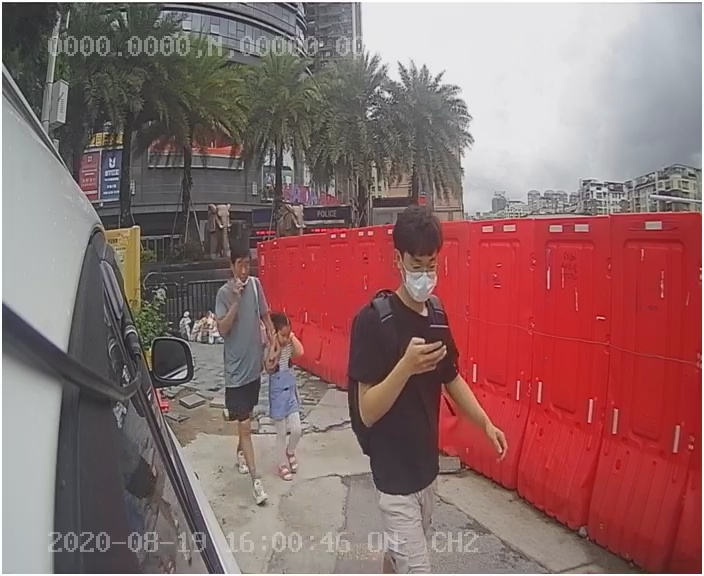person: (336, 203, 507, 538), (206, 246, 289, 504)
